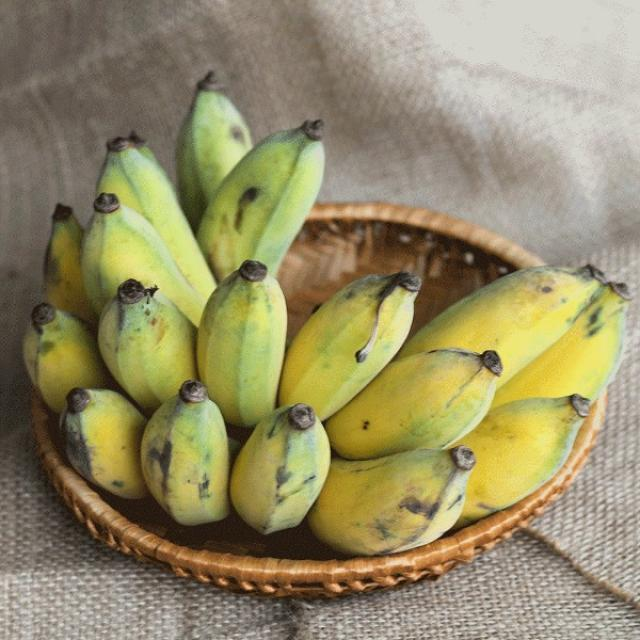Banana: (26, 85, 428, 632), (180, 148, 626, 560)
